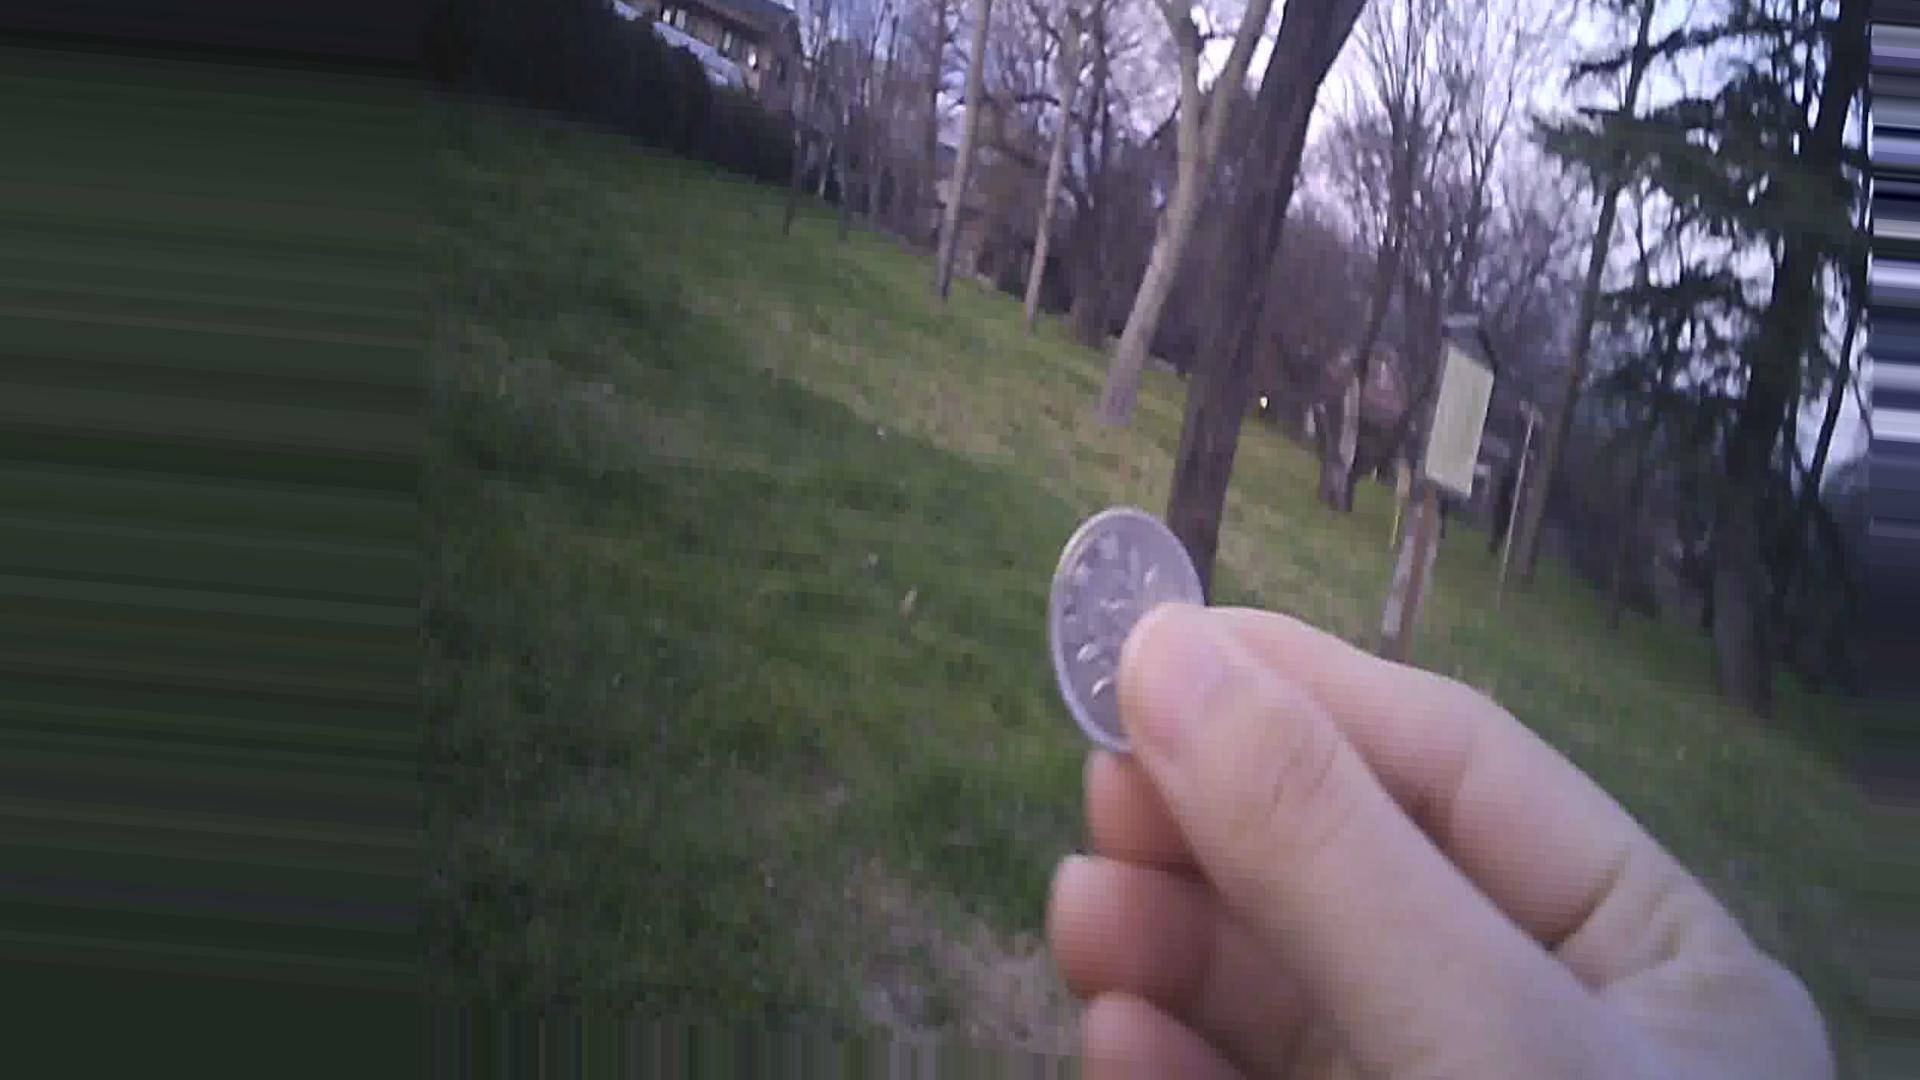1 Yen: (1050, 501, 1203, 721)
